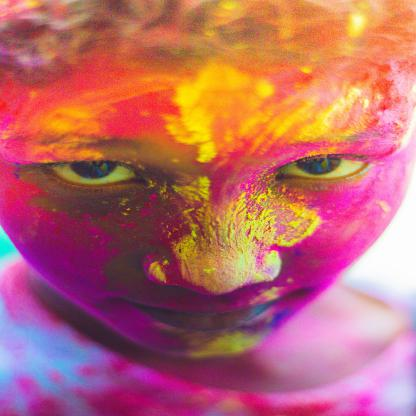Eye: (274, 138, 386, 190), (30, 149, 146, 198)
Mouth: (121, 288, 310, 342)
Nose: (128, 193, 299, 300)
